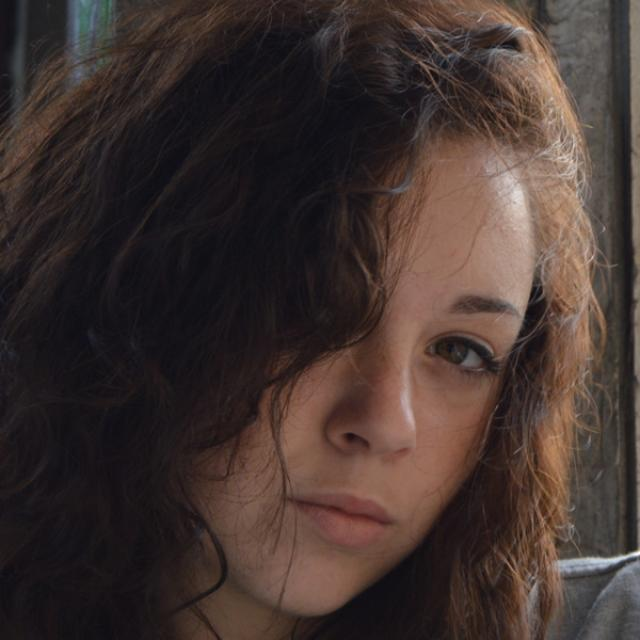face: (102, 6, 582, 636)
